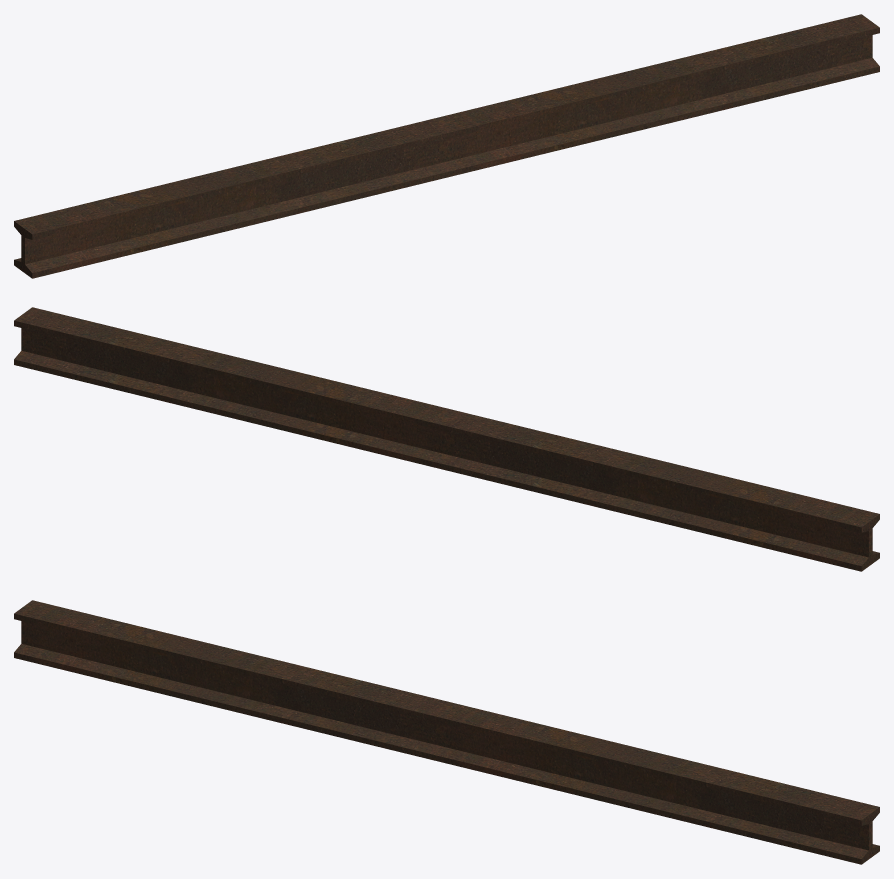
File: beam_hc_horizonatal_1.obj
The picture shows the model from 3 angles, top to bottom: view 1: azimuth 30°, elevation 25°; view 2: azimuth 150°, elevation 25°; view 3: azimuth 330°, elevation 25°; orthographic projection.
Parts seen in each view (by area): view 1: beam_hc_horizonatal_1; view 2: beam_hc_horizonatal_1; view 3: beam_hc_horizonatal_1.
Part boxes in pixels (<box>): beam_hc_horizonatal_1: <box>14,14,879,278</box>; beam_hc_horizonatal_1: <box>14,307,879,571</box>; beam_hc_horizonatal_1: <box>14,600,879,864</box>.
Size of the model in its own units: 8 by 0.4 by 0.3.
